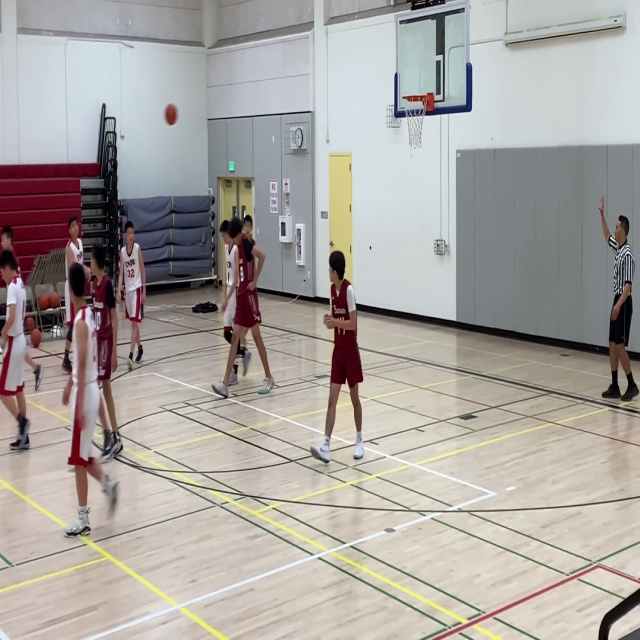Basketball: (165, 104, 177, 125), (30, 328, 41, 347), (49, 292, 60, 309), (24, 316, 35, 332), (38, 294, 49, 310)
